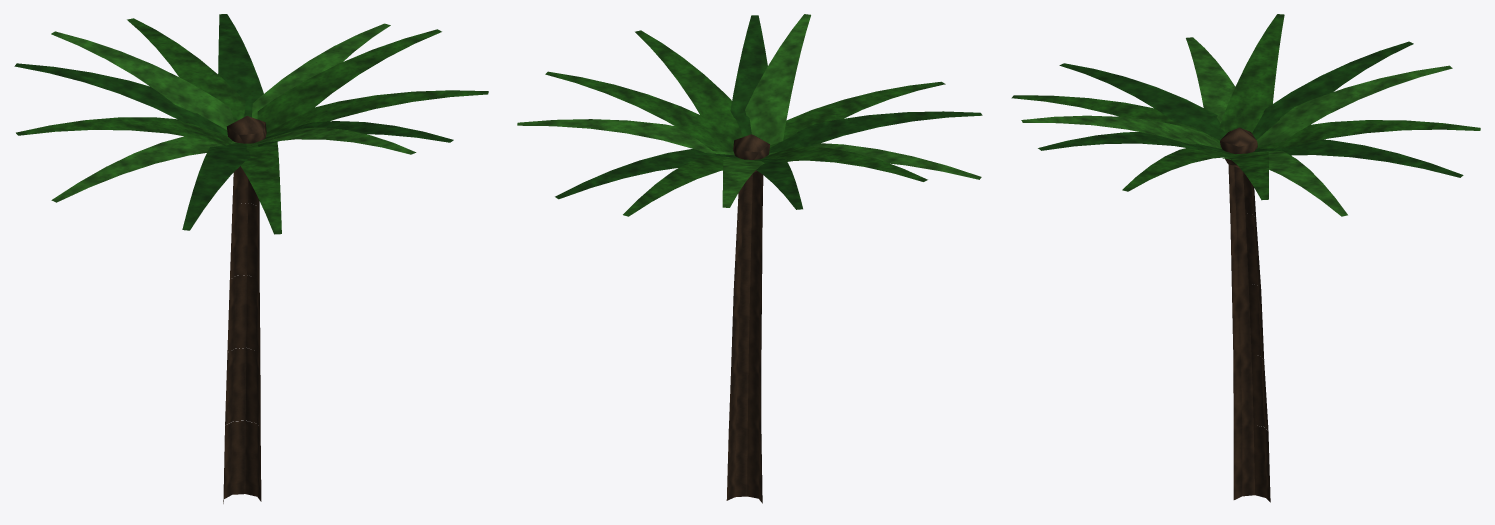
File: palm_oil.glb
3 renders of one model, left to right at view 1: azimuth 30°, elevation 25°; view 2: azimuth 150°, elevation 25°; view 3: azimuth 270°, elevation 25°, orthographic. The views are drawn at different scales.
Visible parts, largest first — view 1: palm_oil; view 2: palm_oil; view 3: palm_oil.
Part boxes in pixels (x1,y1,x2,y2): palm_oil: (14,14,488,503); palm_oil: (517,14,982,503); palm_oil: (1011,14,1480,502).
Bounding box in the file's own units: 8.25 × 7.83 × 8.21.
4 materials, 4 textured.
